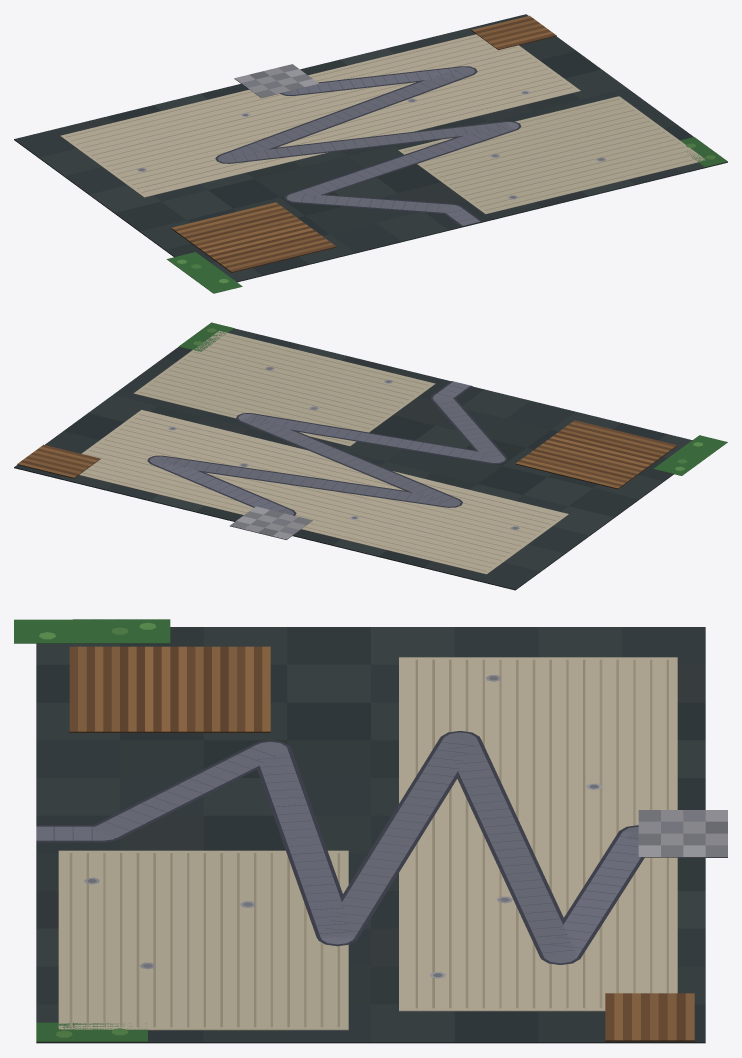
The model's file is Decor_NinjaDojo_Floor.fbx.
3 renders of one model, top to bottom at view 1: azimuth 30°, elevation 25°; view 2: azimuth 150°, elevation 25°; view 3: azimuth 270°, elevation 25°, orthographic. The views are drawn at different scales.
Visible parts, largest first — view 1: Floor_Body; view 2: Floor_Body; view 3: Floor_Body.
Part boxes in pixels (x1,y1,x2,y2): Floor_Body: (14, 14, 727, 293); Floor_Body: (14, 322, 727, 590); Floor_Body: (14, 619, 727, 1043).
Bounding box in the file's own units: 179 × 0.6 × 128.
